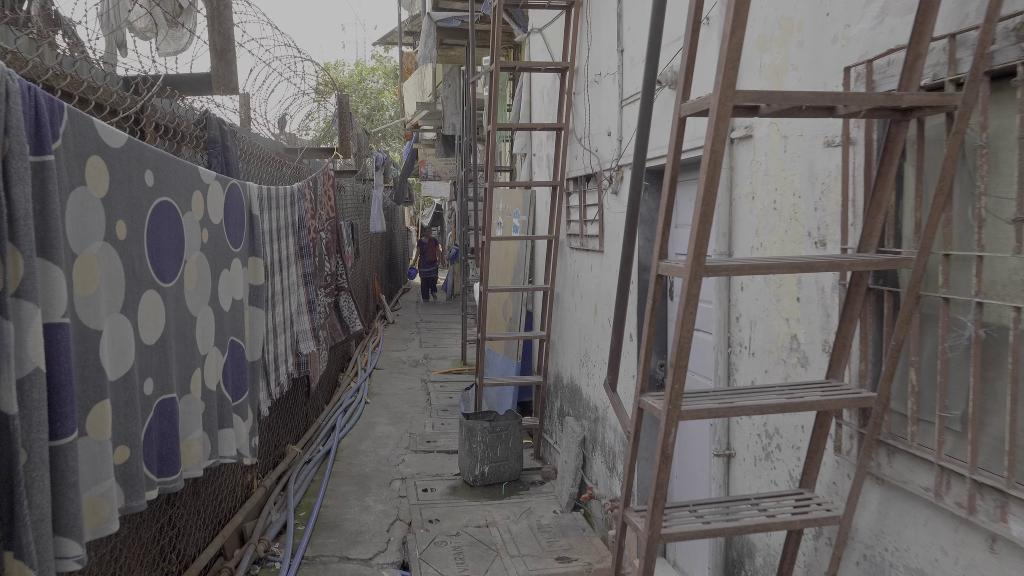dustbin: (456, 404, 530, 491)
